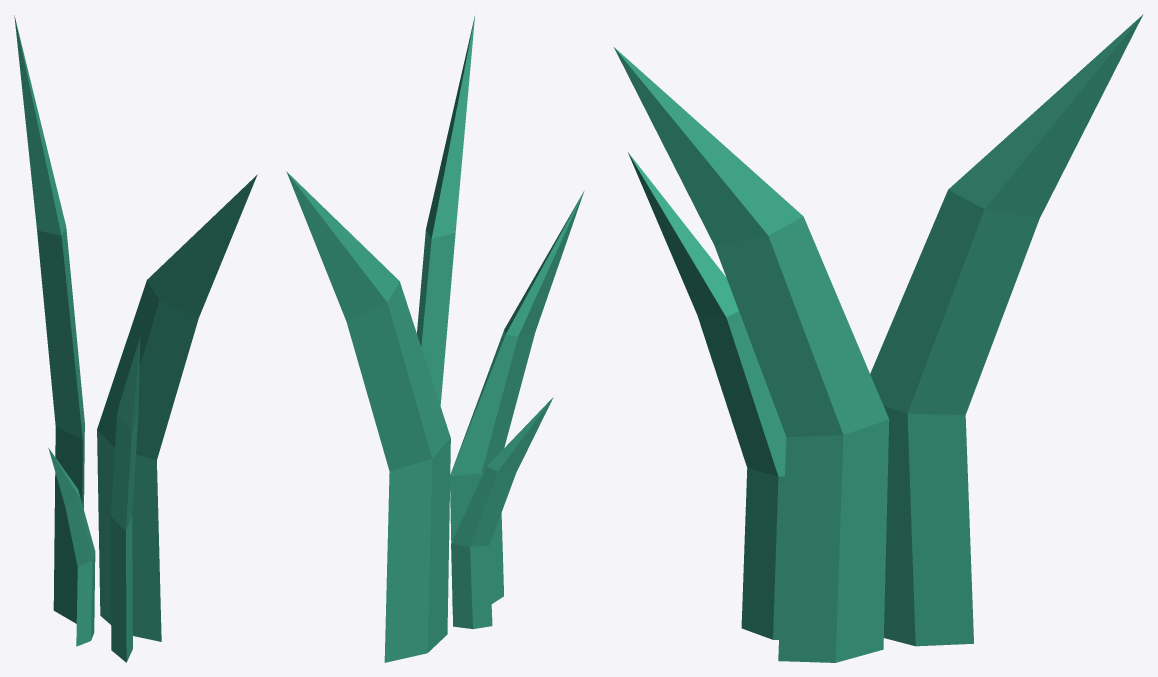
File: pasto.fbx
3 renders of one model, left to right at view 1: azimuth 30°, elevation 25°; view 2: azimuth 150°, elevation 25°; view 3: azimuth 270°, elevation 25°, orthographic. The views are drawn at different scales.
Visible parts, largest first — view 1: Cube; view 2: Cube; view 3: Cube.
Part boxes in pixels (x1,y1,x2,y2): Cube: (14,15,257,662); Cube: (286,14,584,662); Cube: (614,14,1143,662).
Bounding box in the file's own units: 28.75 × 100 × 74.3.
